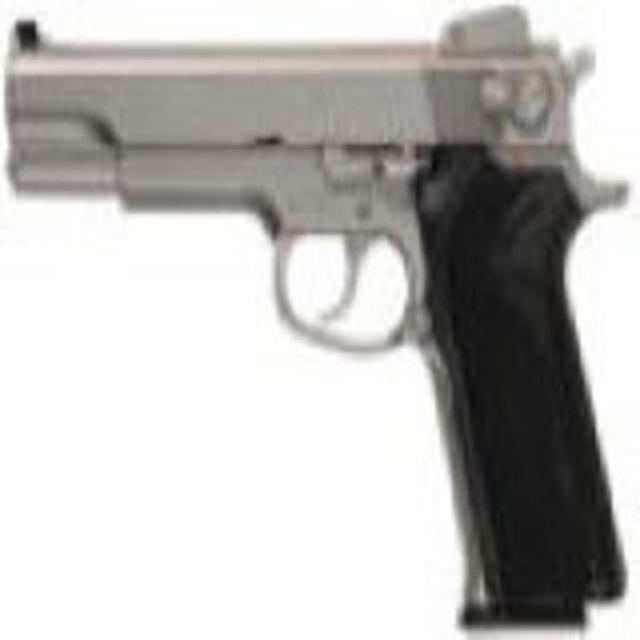pistol: (7, 15, 631, 629)
